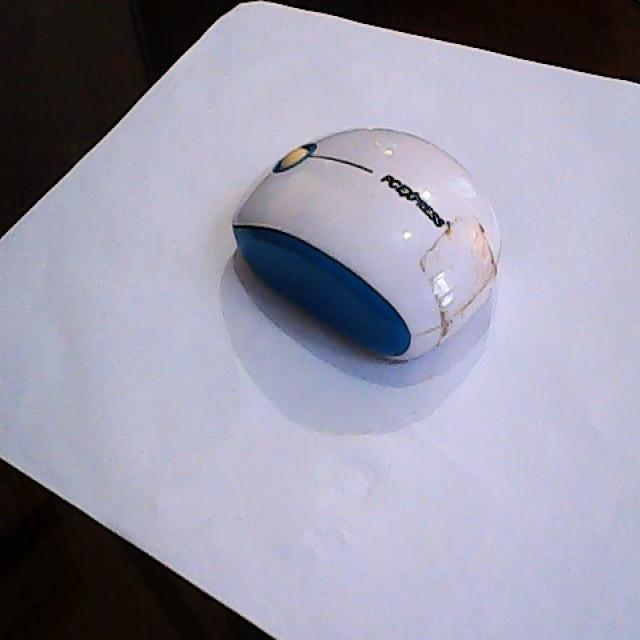Mouse: (232, 121, 506, 369)
